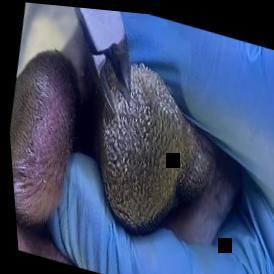keratosis: (74, 48, 231, 249)
